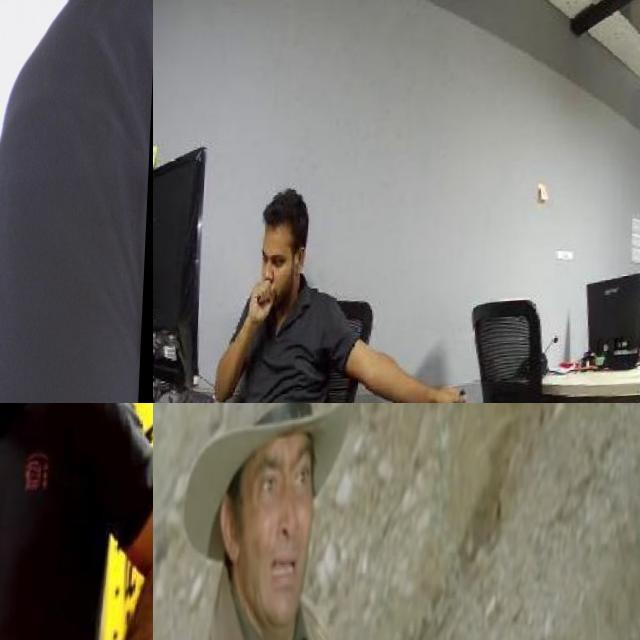-: (0, 461, 40, 640)
gun-knife-thesis - v11 Yolov5 augmented: (0, 10, 58, 356)
